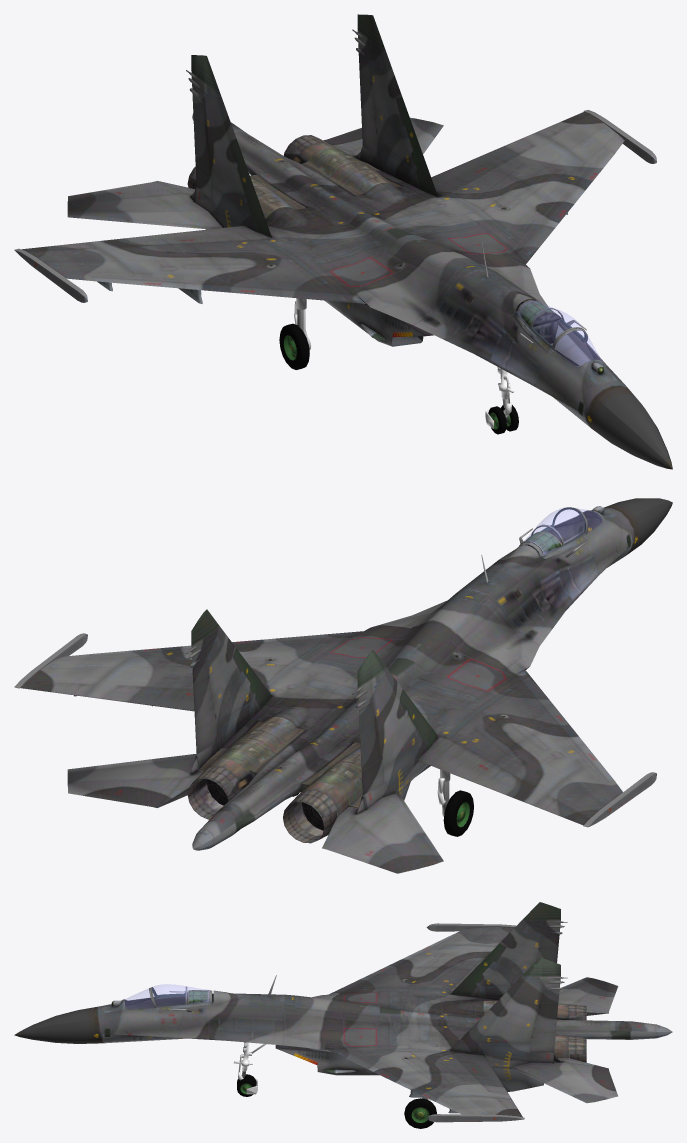
3 views of the same model, one above another, from view 1: azimuth 30°, elevation 25°; view 2: azimuth 150°, elevation 25°; view 3: azimuth 270°, elevation 25° (orthographic). The views are drawn at different scales.
Visible parts, largest first — view 1: geometry_0, geometry_2, geometry_1, geometry_3, geometry_4; view 2: geometry_0, geometry_2, geometry_1, geometry_4, geometry_3; view 3: geometry_0, geometry_2, geometry_1, geometry_3, geometry_4.
Boxes of the visible parts, x1,y1,x2,y2 form: geometry_0: (14,14,672,469); geometry_2: (67,53,585,352); geometry_1: (518,301,601,367); geometry_3: (283,242,586,429); geometry_4: (279,323,518,434); geometry_0: (14,498,672,850); geometry_2: (67,507,587,873); geometry_1: (522,507,602,553); geometry_4: (292,790,473,836); geometry_3: (437,528,586,827); geometry_0: (14,902,672,1122); geometry_2: (150,934,618,1103); geometry_1: (125,984,208,1008); geometry_3: (169,975,431,1122); geometry_4: (237,1074,436,1128).
Size of the model in its own units: 15.25 by 6.31 by 22.08.
6 materials, 4 textured.
